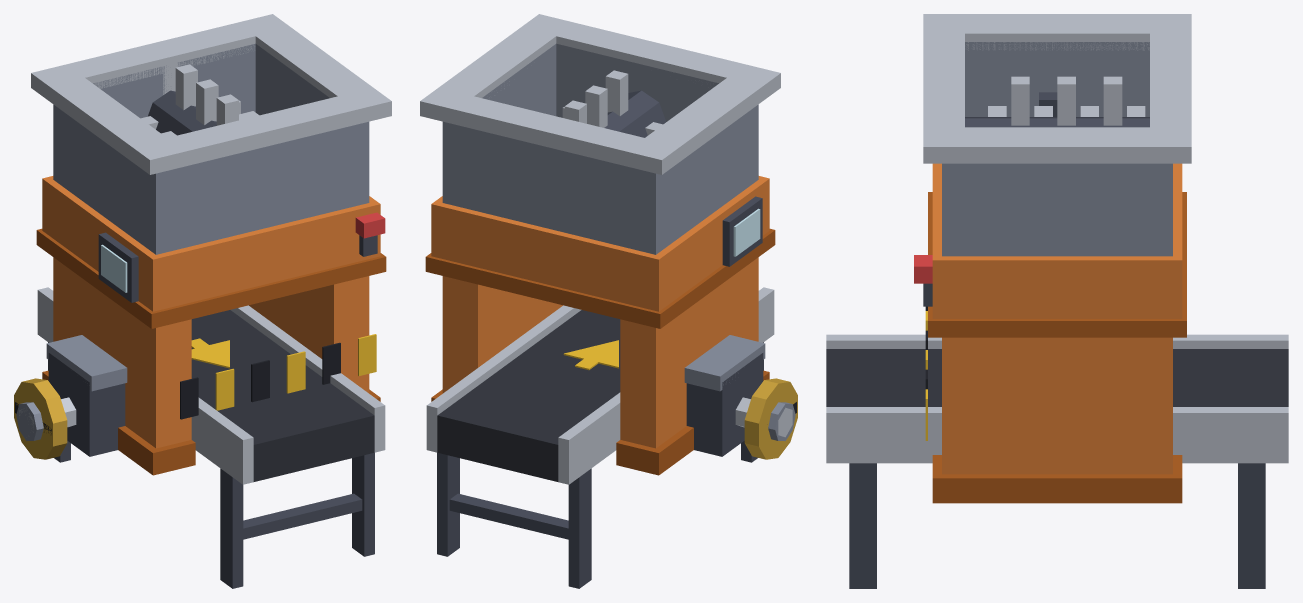
File: shredder-left.glb
3 renders of one model, left to right at view 1: azimuth 30°, elevation 25°; view 2: azimuth 150°, elevation 25°; view 3: azimuth 270°, elevation 25°, orthographic. The views are drawn at different scales.
Visible parts, largest first — view 1: shredder-left, spin-y, spin-x; view 2: shredder-left, spin-y, spin-x; view 3: shredder-left, spin-y.
Part boxes in pixels (left/top/right/bottom): shredder-left: left=19, top=14, right=391, bottom=588; spin-y: left=141, top=49, right=259, bottom=137; spin-x: left=14, top=378, right=67, bottom=459; shredder-left: left=420, top=14, right=792, bottom=588; spin-y: left=544, top=70, right=665, bottom=137; spin-x: left=744, top=378, right=797, bottom=459; shredder-left: left=826, top=14, right=1288, bottom=588; spin-y: left=965, top=76, right=1168, bottom=127.
Bounding box in the file's own units: 0.86 × 1.12 × 1.
3 materials, 3 textured.
